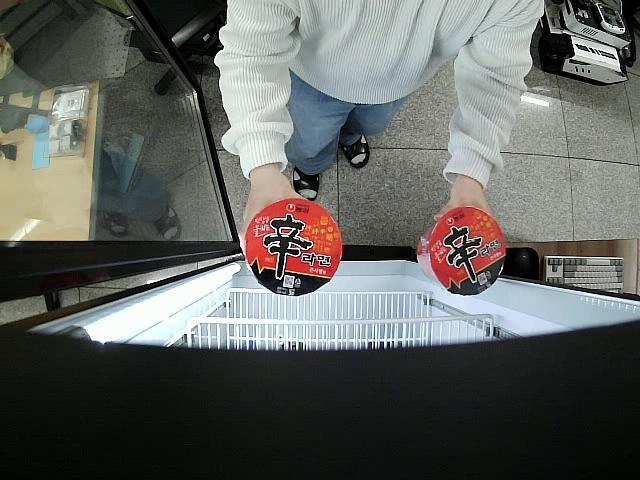00_hand: (239, 171, 309, 260), (432, 177, 496, 239)
01_shinRamen_L: (246, 199, 342, 296), (417, 207, 507, 295)
